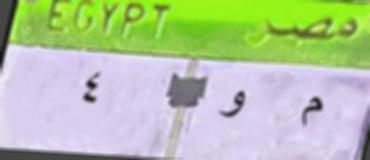4: (80, 65, 104, 115)
meem: (298, 90, 324, 134)
waw: (216, 81, 254, 132)
